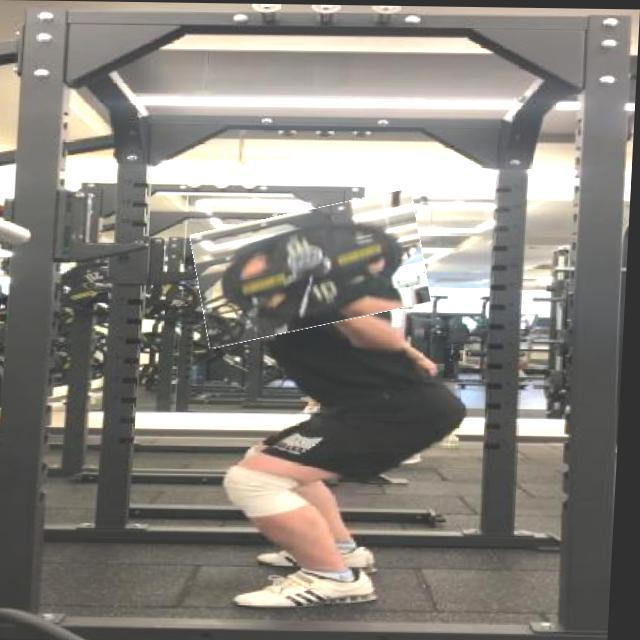barbell: (194, 198, 434, 340)
